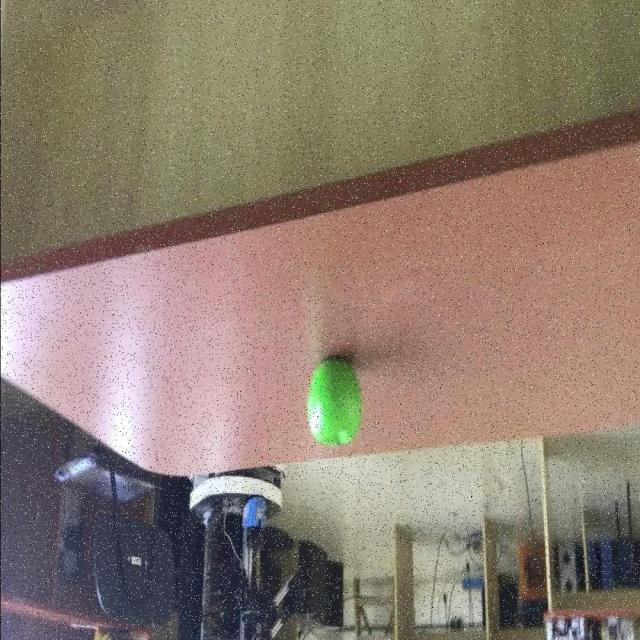Apple: (307, 358, 362, 448)
